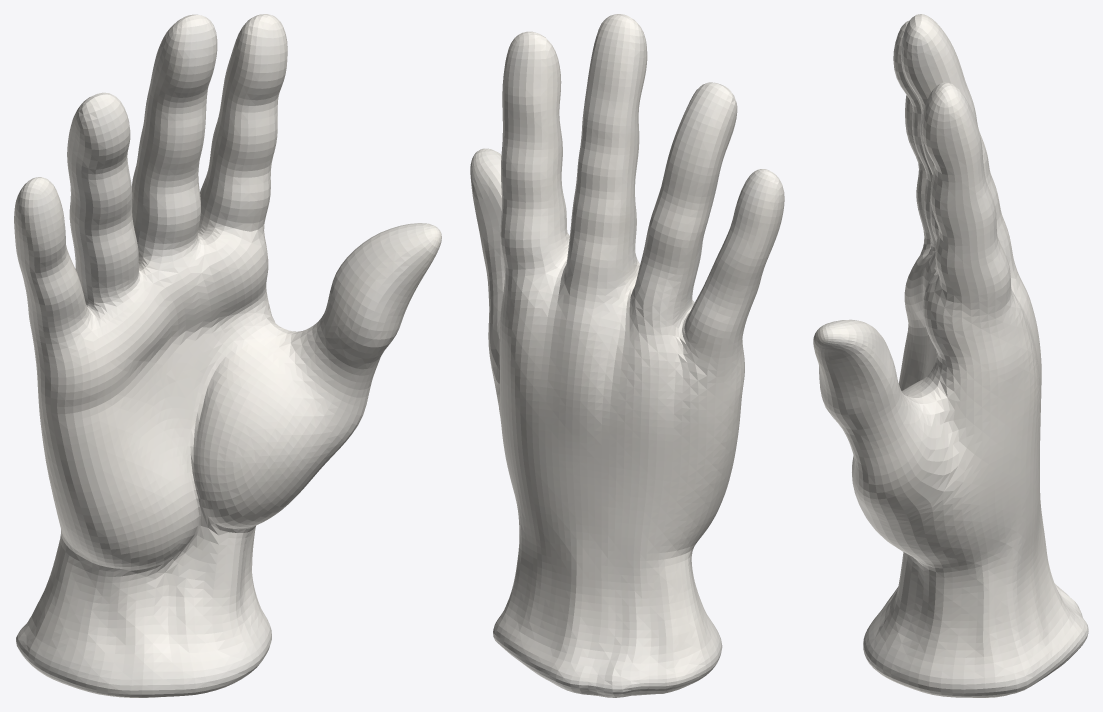
File: glove_scaled.glb
The picture shows the model from 3 angles, left to right: view 1: azimuth 30°, elevation 25°; view 2: azimuth 150°, elevation 25°; view 3: azimuth 270°, elevation 25°; orthographic projection. The views are drawn at different scales.
Visible parts, largest first — view 1: model; view 2: model; view 3: model.
Part boxes in pixels (left/top/right/bottom): model: left=14, top=14, right=441, bottom=697; model: left=470, top=14, right=784, bottom=697; model: left=813, top=14, right=1088, bottom=697.
Size of the model in its own units: 0.1778 by 0.298 by 0.1158.
Materials: 1 (1 with a texture image).
